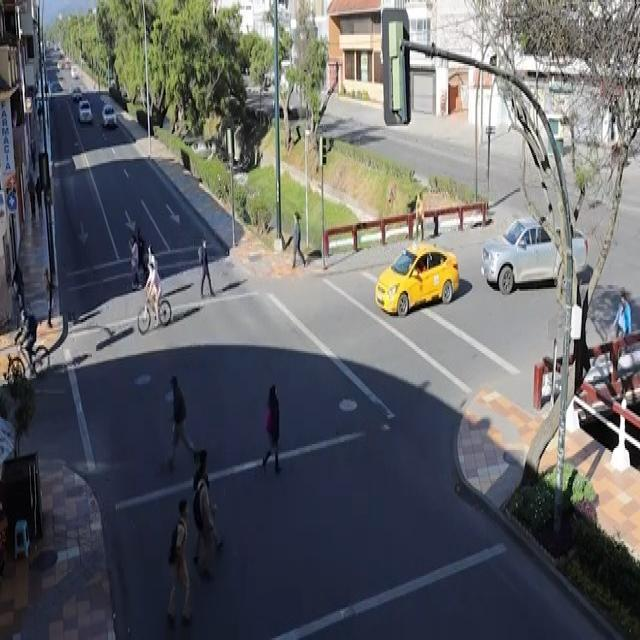CMT: (483, 222, 592, 294)
